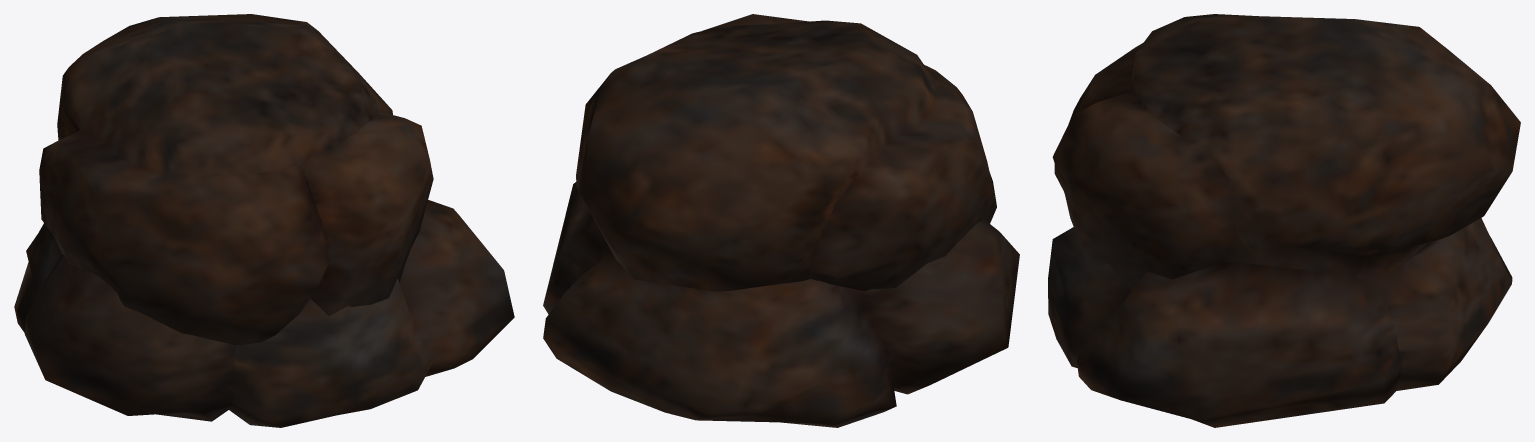
The model's file is sb_obj_nature006_Stone05e.fbx.
The picture shows the model from 3 angles, left to right: view 1: azimuth 30°, elevation 25°; view 2: azimuth 150°, elevation 25°; view 3: azimuth 270°, elevation 25°; orthographic projection. The views are drawn at different scales.
Parts seen in each view (by area): view 1: sb_obj_nature006_Stone05e; view 2: sb_obj_nature006_Stone05e; view 3: sb_obj_nature006_Stone05e.
Part boxes in pixels (x1,y1,x2,y2): sb_obj_nature006_Stone05e: (14,14,514,427); sb_obj_nature006_Stone05e: (543,14,1019,427); sb_obj_nature006_Stone05e: (1048,14,1520,427).
Size of the model in its own units: 0.5374 by 0.347 by 0.5011.
Materials: 1 (1 with a texture image).
